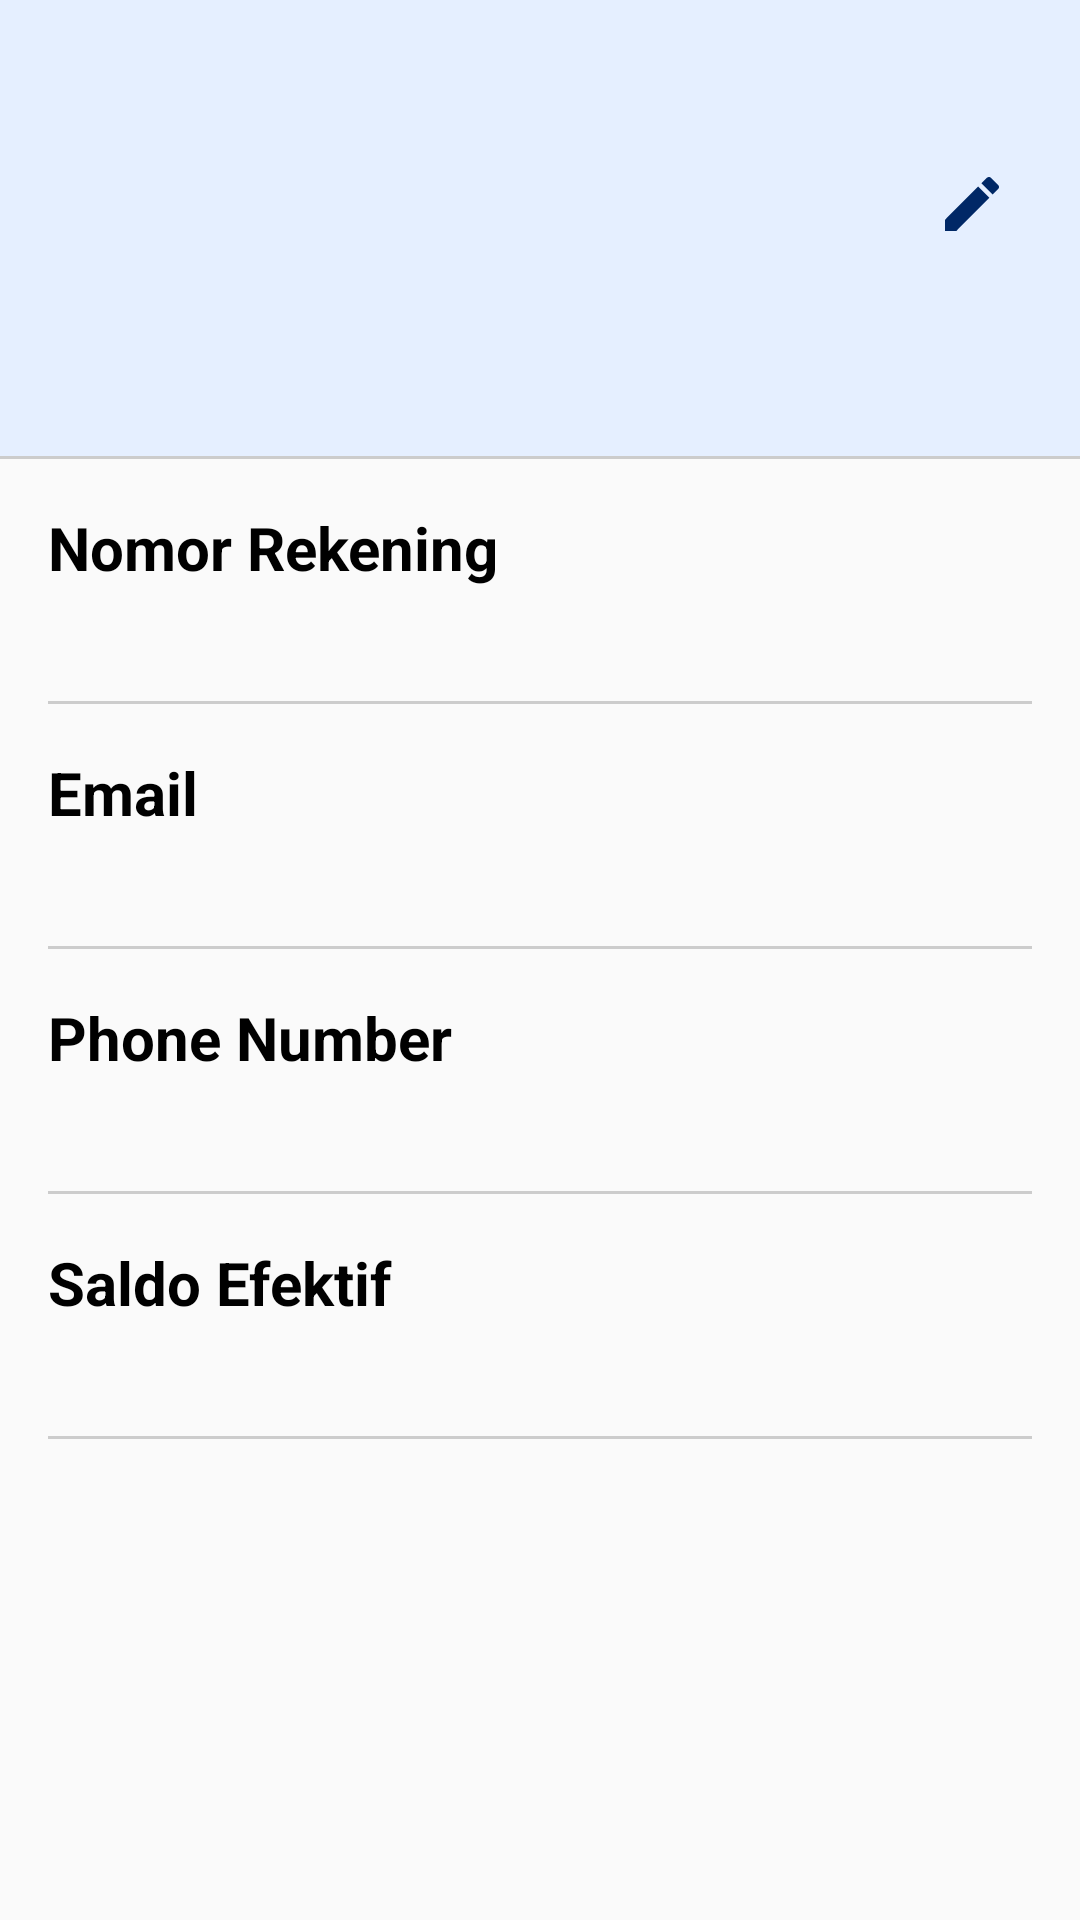

Named icons in this screenshot (1080w x 1920h) and their centers, [x,y]:
edit: [972,204]
